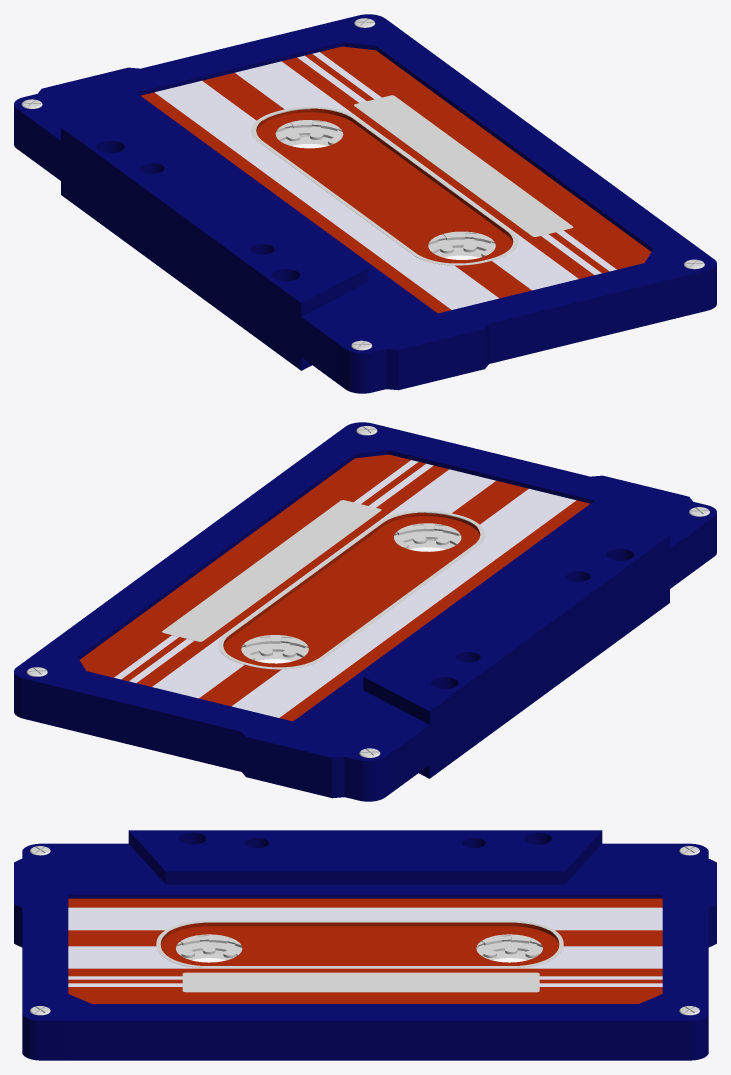
Rendered from cassette.fbx.
3 views of the same model, one above another, from view 1: azimuth 30°, elevation 25°; view 2: azimuth 150°, elevation 25°; view 3: azimuth 270°, elevation 25° (orthographic).
Parts seen in each view (by area): view 1: Plane.041_Plane.002, Plane.011_Plane.023, Plane.012_Plane.024, Plane.013_Plane.025, Plane.015_Plane.022, Circle.004_Circle.005, Circle.001_Circle.006; view 2: Plane.041_Plane.002, Plane.011_Plane.023, Plane.012_Plane.024, Plane.013_Plane.025, Plane.015_Plane.022, Circle.001_Circle.006, Circle.004_Circle.005; view 3: Plane.041_Plane.002, Plane.011_Plane.023, Plane.012_Plane.024, Plane.013_Plane.025, Plane.015_Plane.022, Circle.001_Circle.006, Circle.004_Circle.005, Plane.002_Plane.012.
Boxes of the visible parts, x1=… form: Plane.041_Plane.002: x1=14, y1=14, x2=716, y2=393; Plane.011_Plane.023: x1=141, y1=46, x2=651, y2=313; Plane.012_Plane.024: x1=256, y1=112, x2=512, y2=263; Plane.013_Plane.025: x1=354, y1=95, x2=573, y2=236; Plane.015_Plane.022: x1=251, y1=106, x2=518, y2=265; Circle.004_Circle.005: x1=428, y1=231, x2=495, y2=256; Circle.001_Circle.006: x1=275, y1=120, x2=343, y2=145; Plane.041_Plane.002: x1=14, y1=422, x2=716, y2=801; Plane.011_Plane.023: x1=79, y1=454, x2=589, y2=721; Plane.012_Plane.024: x1=223, y1=516, x2=479, y2=667; Plane.013_Plane.025: x1=162, y1=500, x2=381, y2=641; Plane.015_Plane.022: x1=218, y1=510, x2=485, y2=669; Circle.001_Circle.006: x1=241, y1=635, x2=308, y2=660; Circle.004_Circle.005: x1=394, y1=523, x2=461, y2=548; Plane.041_Plane.002: x1=14, y1=830, x2=716, y2=1060; Plane.011_Plane.023: x1=68, y1=898, x2=662, y2=1003; Plane.012_Plane.024: x1=160, y1=926, x2=559, y2=965; Plane.013_Plane.025: x1=182, y1=972, x2=539, y2=992; Plane.015_Plane.022: x1=156, y1=920, x2=563, y2=967; Circle.001_Circle.006: x1=476, y1=934, x2=542, y2=957; Circle.004_Circle.005: x1=176, y1=934, x2=242, y2=957; Plane.002_Plane.012: x1=182, y1=950, x2=533, y2=960.
Bounding box in the file's own units: 132 × 23.11 × 221.
